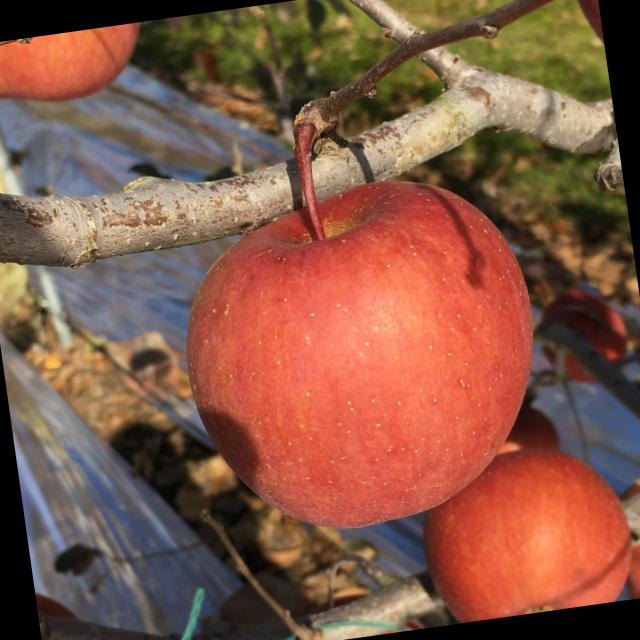fresh: (160, 153, 566, 551)
